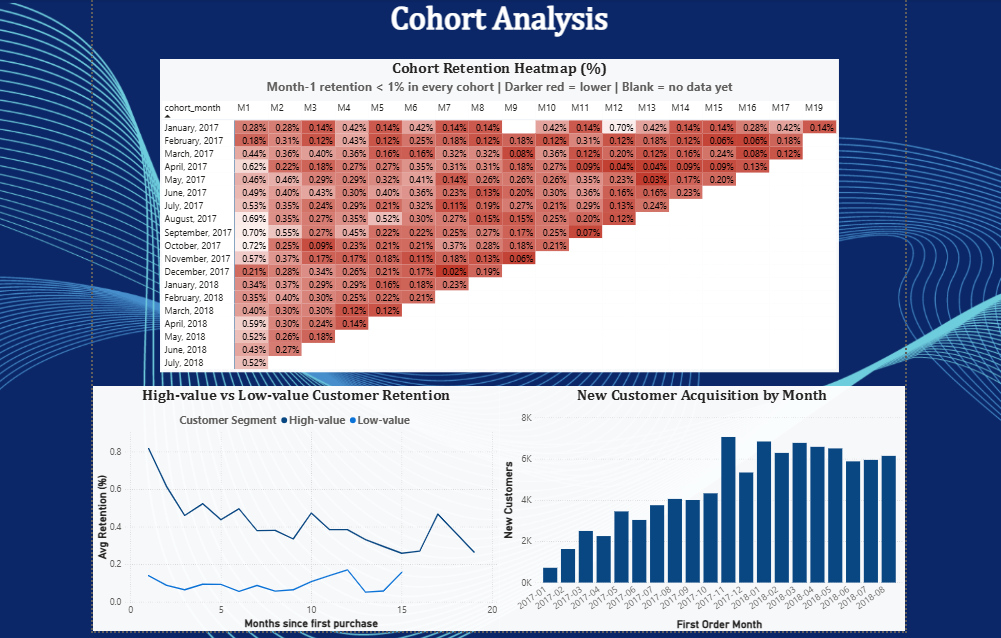

The dashboard page shown, as its layout file describes it:
{"tool":"powerbi","page":{"name":"Cohort Analysis","canvas":[1800,1400],"ordinal":1},"visuals":[{"type":"pivotTable","title":"Cohort Retention Heatmap (%)","fields":{"Rows":["cohort_retention_pct.cohort_month"],"Columns":["cohort_retention_pct.Month label"],"Values":["Sum(cohort_retention_pct.Retention %)"]},"box":[147.7,131.8,1504,694],"z":0},{"type":"clusteredColumnChart","title":"New Customer Acquisition by Month","fields":{"Category":["customer_recency.First Order Month"],"Y":["Count(customer_recency.customer_unique_id)"]},"box":[900,856.8,900,545.5],"z":1000},{"type":"lineChart","title":"High-value vs Low-value Customer Retention","fields":{"Category":["value_segment_retention.Month Offset"],"Y":["Avg(value_segment_retention.Retention %)"],"Series":["value_segment_retention.segment"]},"box":[0,856.8,900,543.2],"z":2000},{"type":"textbox","box":[0,0,1800,95.5],"z":3000}]}

Visuals, with their boxes on the page's 1800x1400 design canvas (x1, y1, x2, y2). These are canvas units, not pixel positions in the 1001x638 screenshot, which may show the page scaled, cropped or inside an application window:
"Cohort Retention Heatmap (%)" pivotTable: [148,132,1652,826]
"New Customer Acquisition by Month" clusteredColumnChart: [900,857,1800,1402]
"High-value vs Low-value Customer Retention" lineChart: [0,857,900,1400]
textbox: [0,0,1800,96]
